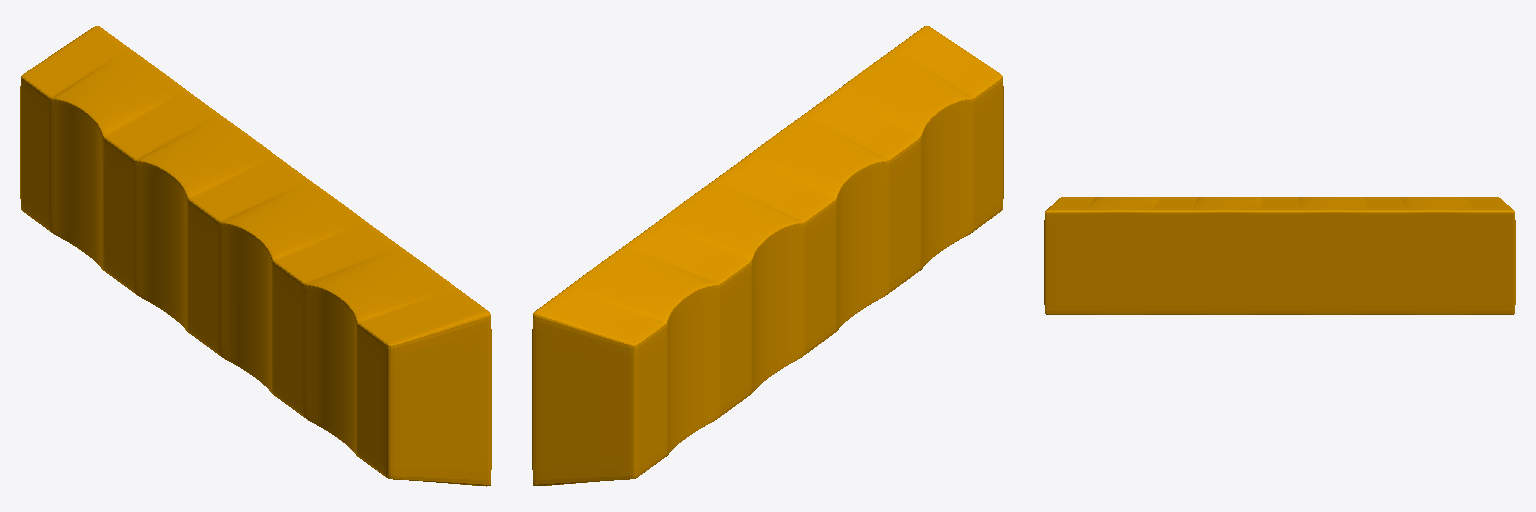
The robot description file, URDF, robot "chocolate":
<?xml version="1.0"?>
<robot name="chocolate">
  <link name="chocolate">
    <visual>
      <origin xyz="0.0 0.0 0.0" rpy="0.0 0.0 1.5708"/>
      <geometry>
        <mesh filename="chocolate.obj" scale="0.02 0.02 0.02"/>
      </geometry>
    </visual>
    <collision>
      <origin xyz="0.0 0.0 0.0" rpy="0.0 0.0 1.5708"/>
      <geometry>
        <mesh filename="chocolate.obj" scale="0.02 0.02 0.02"/>
      </geometry>
    </collision>
    <inertial>
      <mass value="0.2"/>
      <inertia ixx="0.0001" ixy="0.0" ixz="0.0" iyy="0.0001" iyz="0.0" izz="0.0001"/>
    </inertial>
  </link>
</robot>

--- Facts derived from the render (not from the file) ---
Views: 3 orthographic renders of the robot side by side, from view 1: azimuth 30°, elevation 25°; view 2: azimuth 150°, elevation 25°; view 3: azimuth 270°, elevation 25°.
Model chocolate with 1 links and 0 joints (none), rooted at chocolate, posed every joint at zero.
Links seen in each view (by area): view 1: chocolate; view 2: chocolate; view 3: chocolate.
Boxes of the visible links, x1,y1,x2,y2 form: chocolate: (20, 26, 491, 486); chocolate: (532, 26, 1003, 485); chocolate: (1044, 197, 1515, 314).
Bounding box of the posed robot: 0.0202 × 0.1504 × 0.0368 m (x, y, z).
Meshes: 1 distinct files referenced, 1 mesh visuals loaded (1 OBJ).